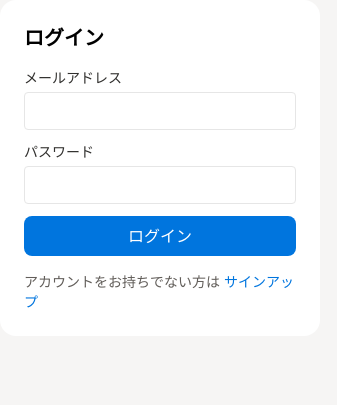
Test: Login › ログイン失敗時にサーバーエラーを表示する
Type "a@example.com" into the field labelled "メールアドレス". click: point(160, 111)
box: [24, 92, 296, 130]
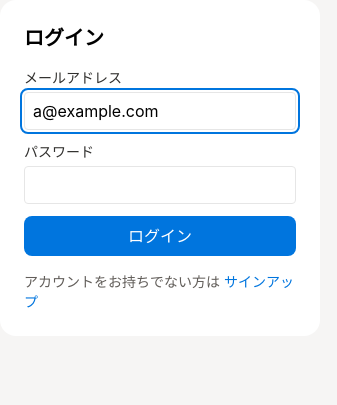
Type "wrongpass" into the password field labelled "パスワード". click: point(160, 185)
box: [24, 166, 296, 204]
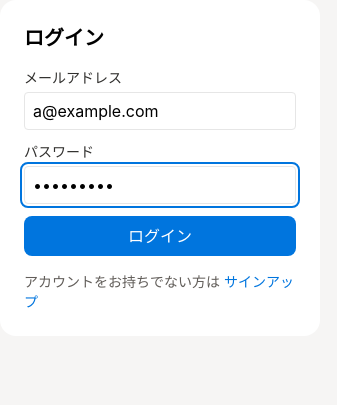
Click the button "ログイン". click: point(160, 236)
box: [24, 216, 296, 256]
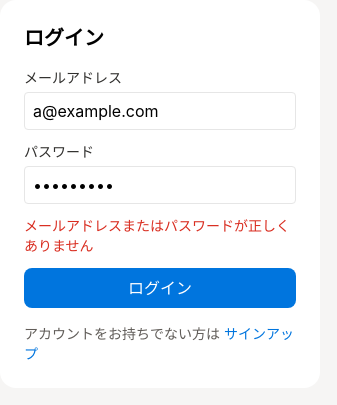
Expected: the text "メールアドレスまたはパスワードが正しくありません" is shown, [24, 216, 296, 256]
